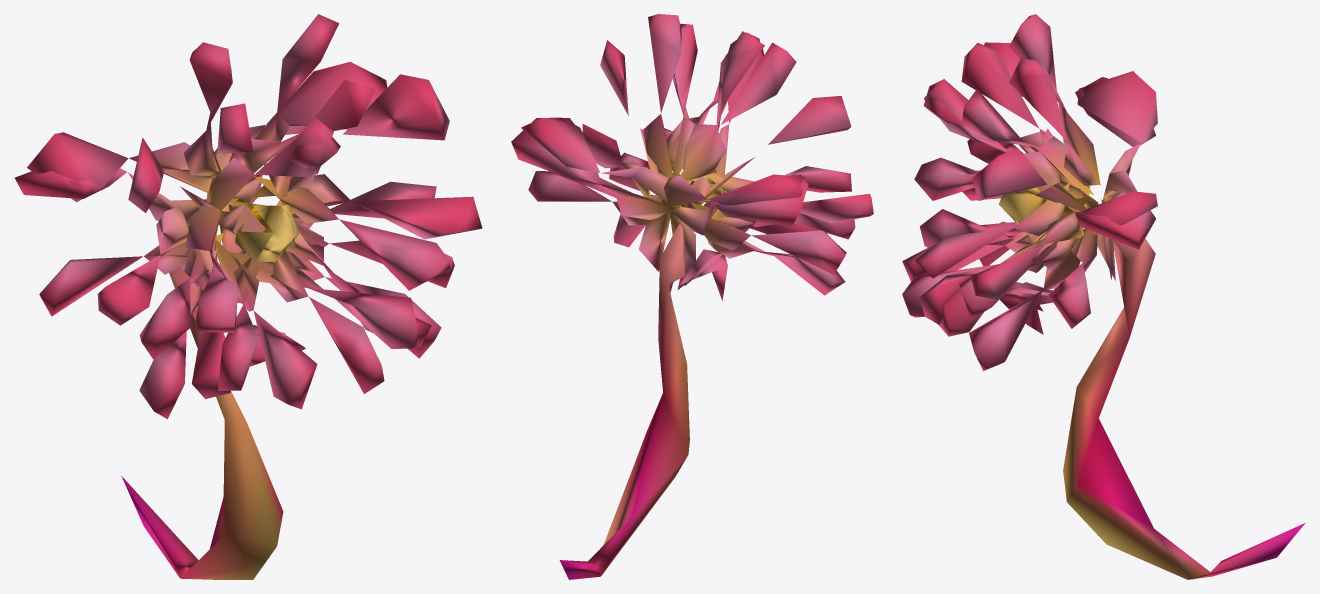
3 renders of one model, left to right at view 1: azimuth 30°, elevation 25°; view 2: azimuth 150°, elevation 25°; view 3: azimuth 270°, elevation 25°, orthographic. The views are drawn at different scales.
Parts seen in each view (by area): view 1: LOD 4_6177960798552739207_be88dc6aca4bb1643b5be1f29ec8d7a3; view 2: LOD 4_6177960798552739207_be88dc6aca4bb1643b5be1f29ec8d7a3; view 3: LOD 4_6177960798552739207_be88dc6aca4bb1643b5be1f29ec8d7a3.
Boxes of the visible parts, x1,y1,x2,y2 form: LOD 4_6177960798552739207_be88dc6aca4bb1643b5be1f29ec8d7a3: [14, 14, 482, 579]; LOD 4_6177960798552739207_be88dc6aca4bb1643b5be1f29ec8d7a3: [511, 14, 873, 579]; LOD 4_6177960798552739207_be88dc6aca4bb1643b5be1f29ec8d7a3: [902, 14, 1305, 579].
Bounding box in the file's own units: 1.46 × 2.22 × 1.54.
